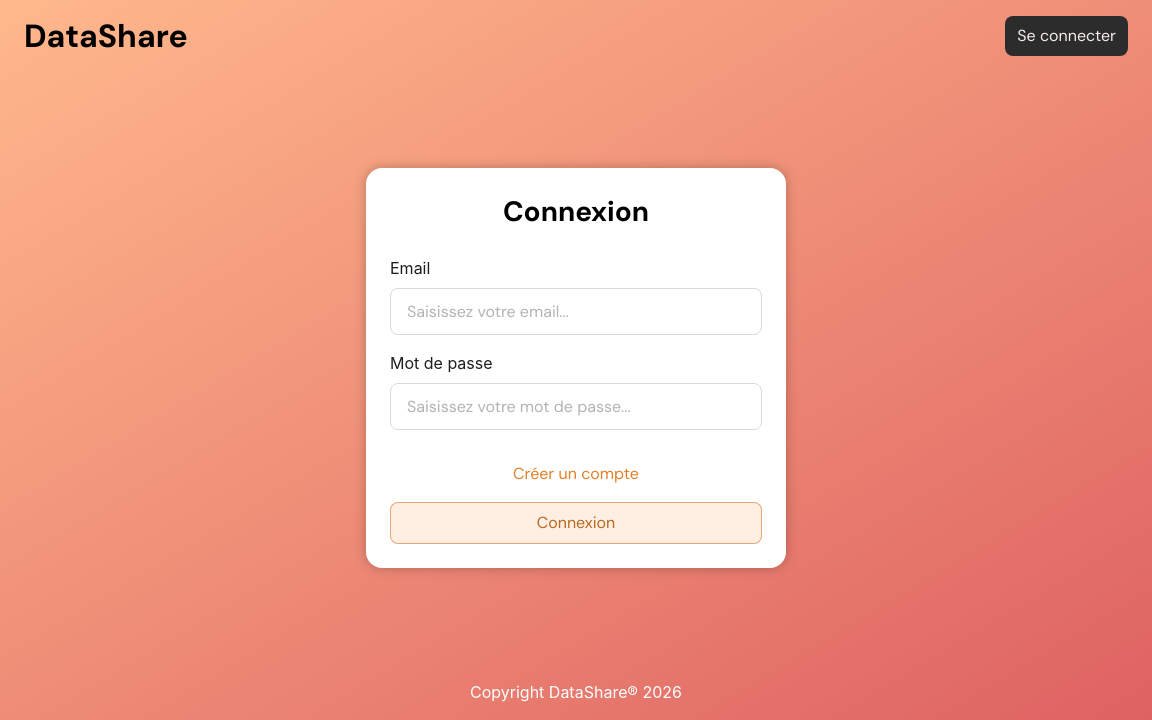
Test: LoginView › affiche le message global de l'API et ne stocke aucun token sur un 401
This screenshot has width=1152, height=720.
Step 1. Type "user@example.com" into the field with id "login-email" → (576, 312), box [390,288,762,335]
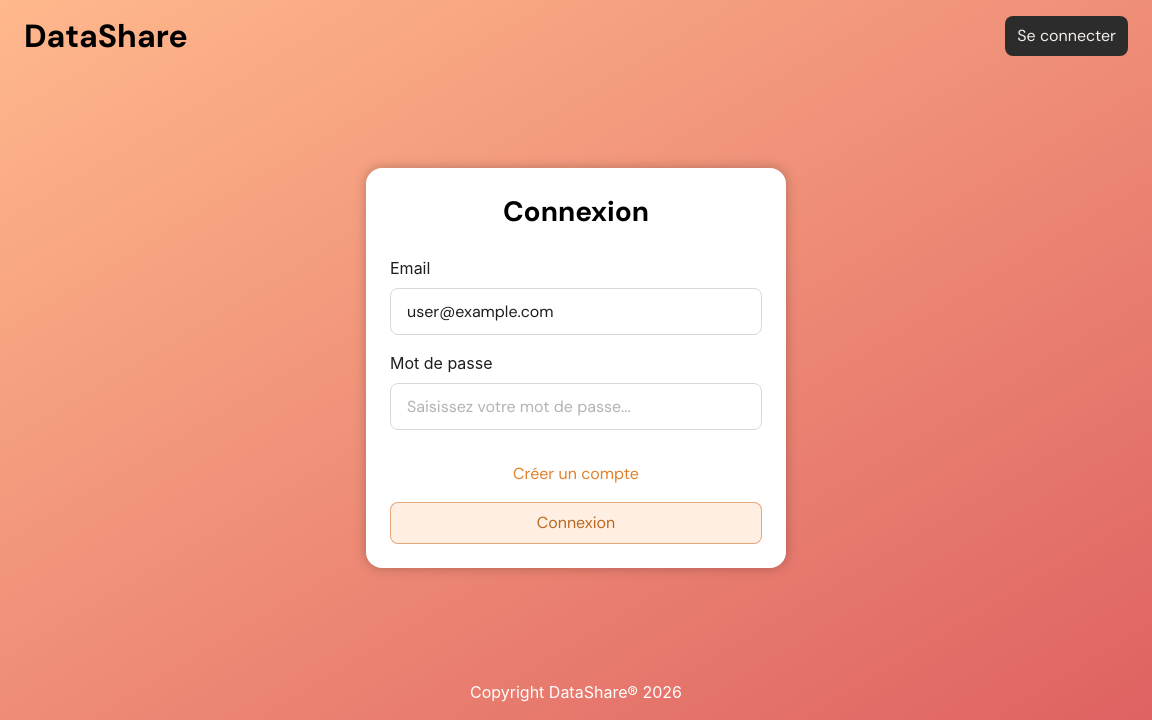
Step 2. Type "motdepasse123" into the password field with id "login-password" → (576, 406), box [390,383,762,430]
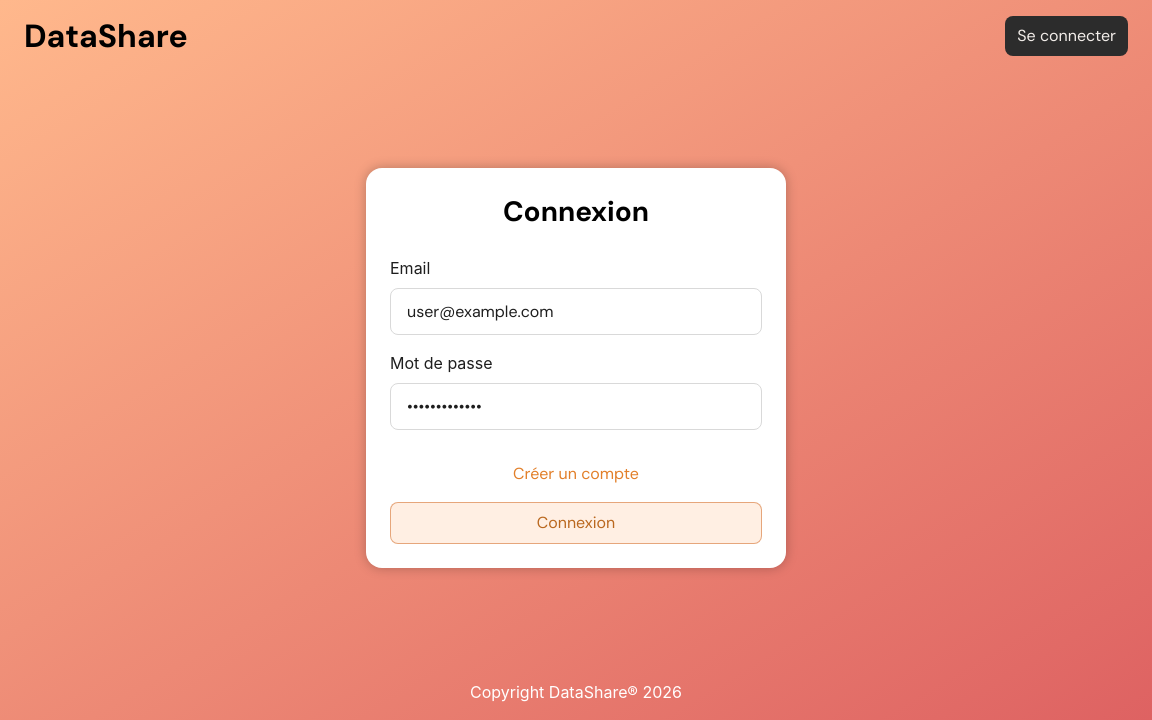
Step 3. Submit the form, box [390,256,762,544]
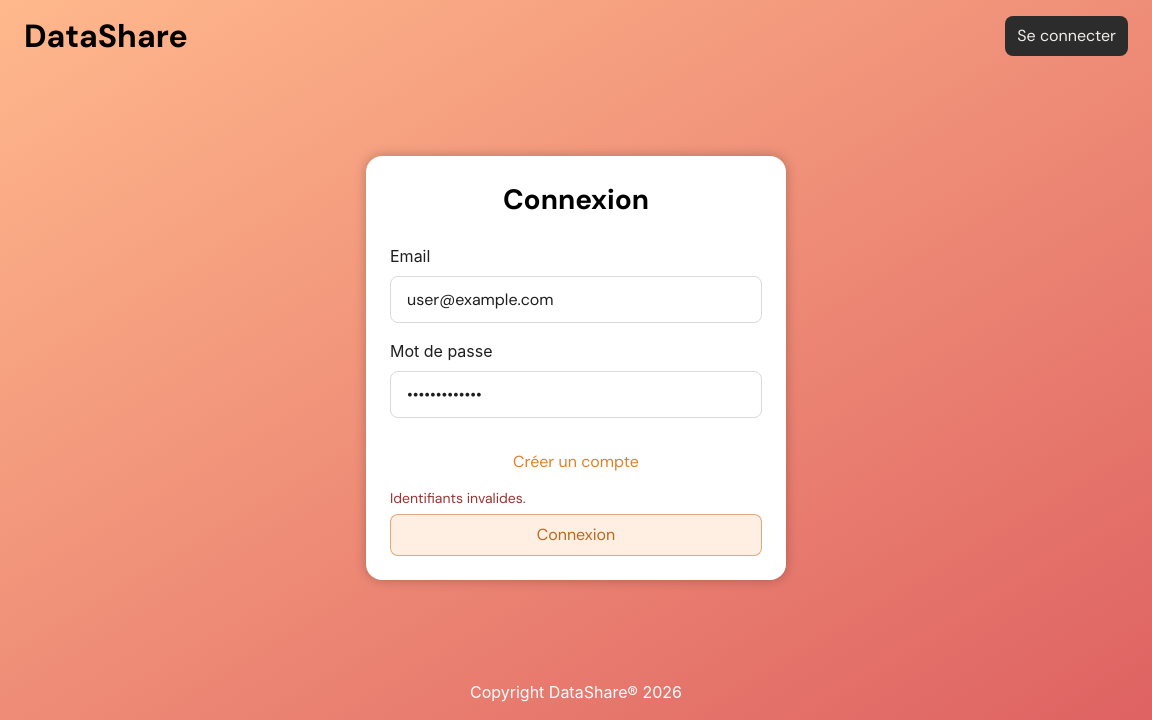
Result: the message with class "form-error-global" reads "Identifiants invalides." at [390,489,526,507]
